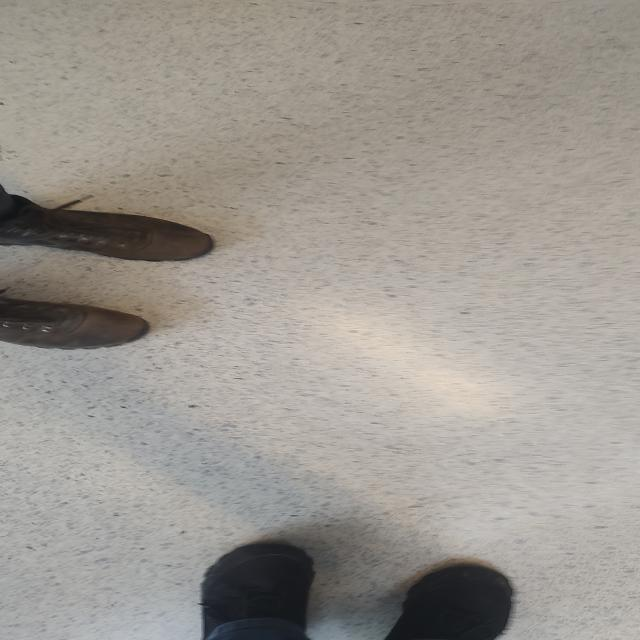Boots: (0, 193, 219, 264), (0, 285, 164, 355)
